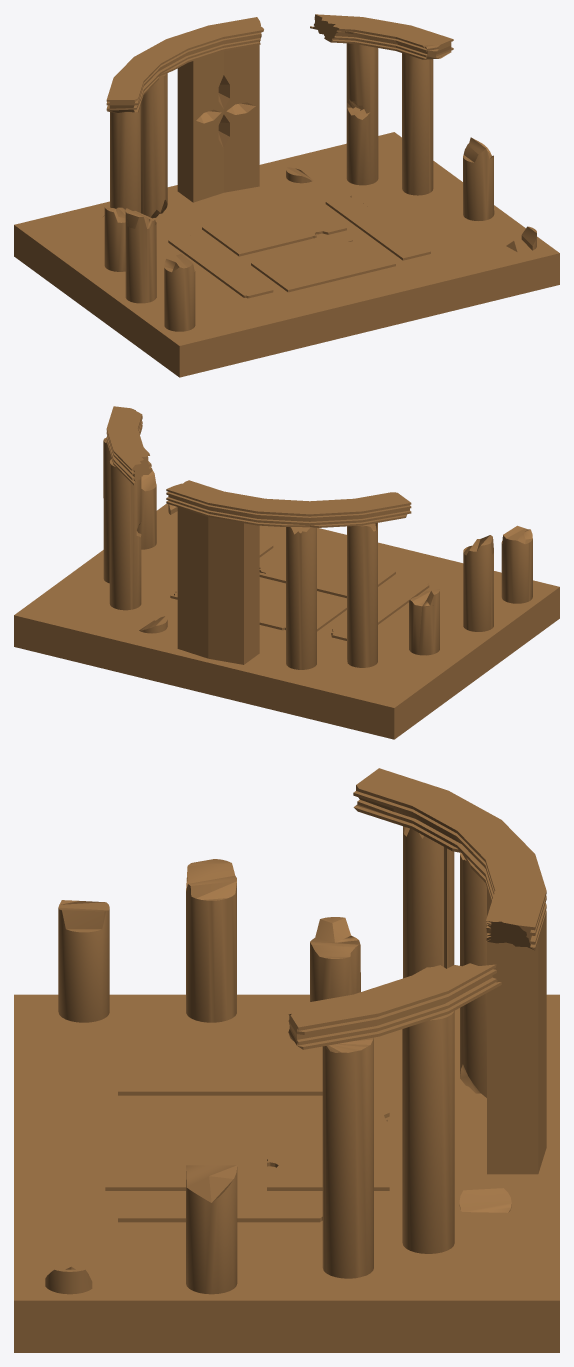
File: Altar.fbx
3 views of the same model, one above another, from view 1: azimuth 30°, elevation 25°; view 2: azimuth 150°, elevation 25°; view 3: azimuth 270°, elevation 25° (orthographic). The views are drawn at different scales.
Parts seen in each view (by area): view 1: Altar, Centro; view 2: Altar, Centro; view 3: Altar, Centro.
Part boxes in pixels (x1,y1,x2,y2): Altar: (14, 14, 559, 377); Centro: (177, 45, 259, 202); Altar: (14, 406, 559, 739); Centro: (177, 507, 259, 664); Altar: (14, 768, 559, 1352); Centro: (487, 888, 546, 1174).
Bounding box in the file's own units: 952 × 448 × 718.
